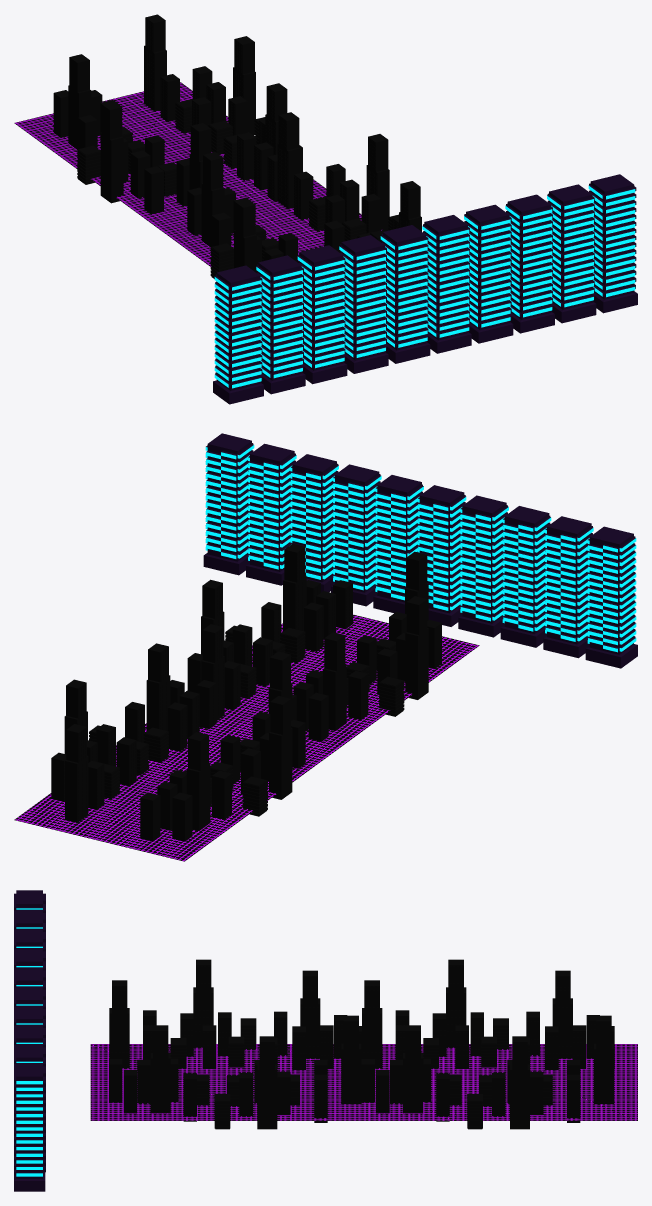
File: env1.fbx
3 renders of one model, top to bottom at view 1: azimuth 30°, elevation 25°; view 2: azimuth 150°, elevation 25°; view 3: azimuth 270°, elevation 25°, orthographic. The views are drawn at different scales.
Visible parts, largest first — view 1: back, building_left, building_right, ground; view 2: back, building_left, building_right, ground; view 3: building_left, building_right, ground, back.
Boxes of the visible parts, left/top/right/bottom form: back: left=213, top=174, right=637, bottom=404; building_left: left=144, top=14, right=421, bottom=242; building_right: left=53, top=54, right=344, bottom=278; ground: left=14, top=82, right=381, bottom=266; back: left=203, top=433, right=637, bottom=668; building_left: left=51, top=543, right=352, bottom=822; building_right: left=140, top=551, right=441, bottom=841; ground: left=14, top=614, right=479, bottom=861; building_left: left=109, top=1015, right=613, bottom=1129; building_right: left=109, top=959, right=614, bottom=1069; ground: left=90, top=1044, right=637, bottom=1120; back: left=14, top=890, right=45, bottom=1191.
Bounding box in the file's own units: 8567 × 2406 × 11975.
